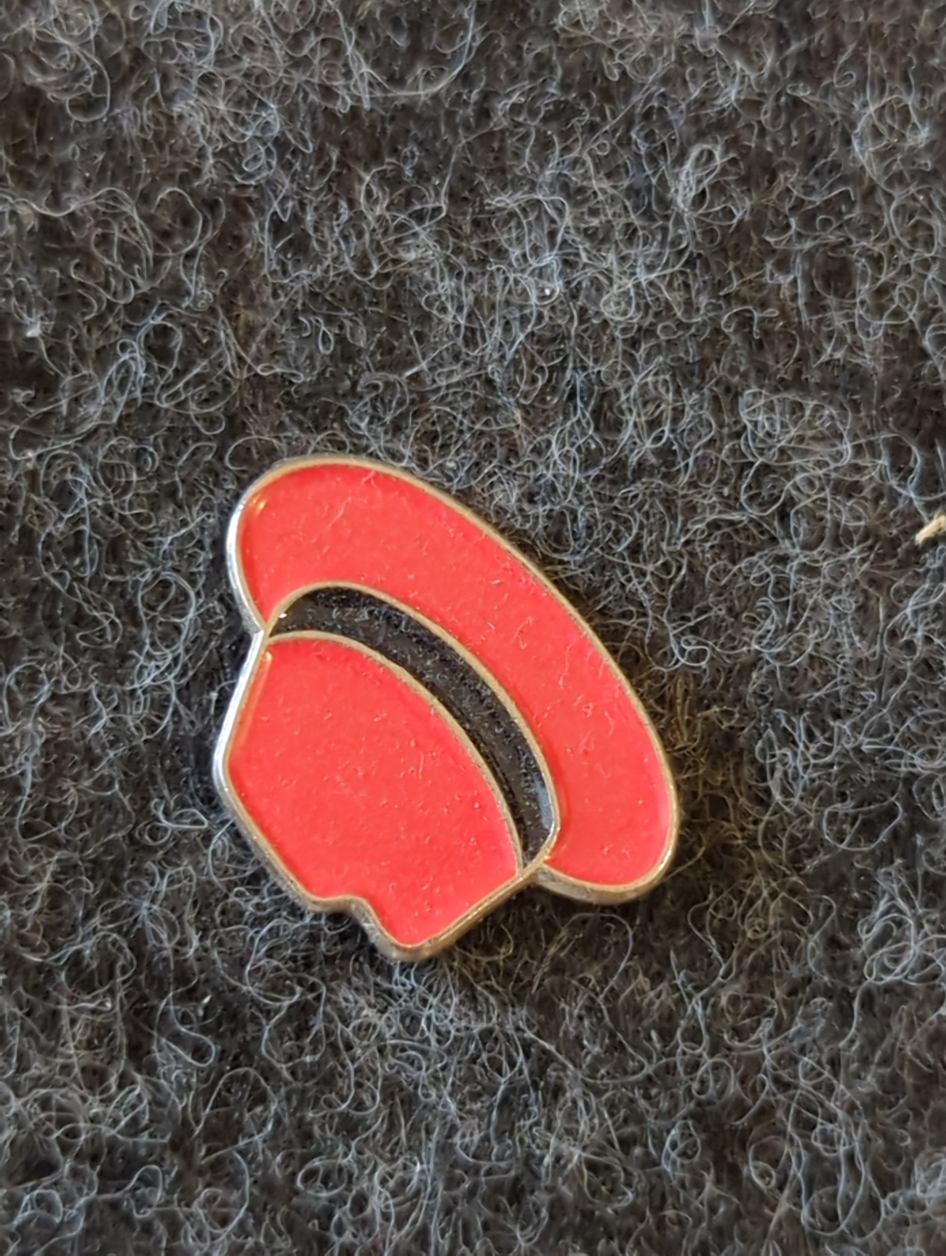Red-Hat: (51, 341, 851, 1092)
